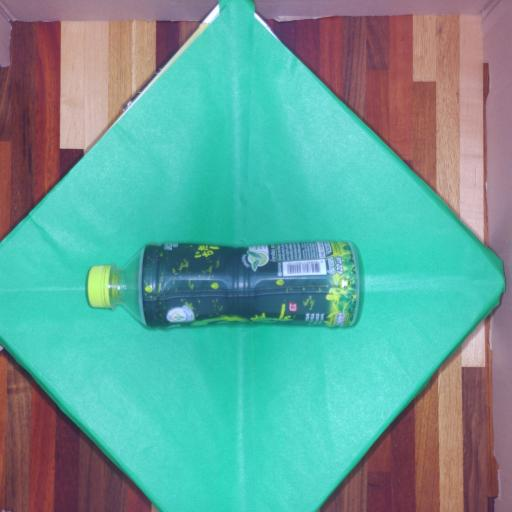bottle: (88, 240, 364, 329)
